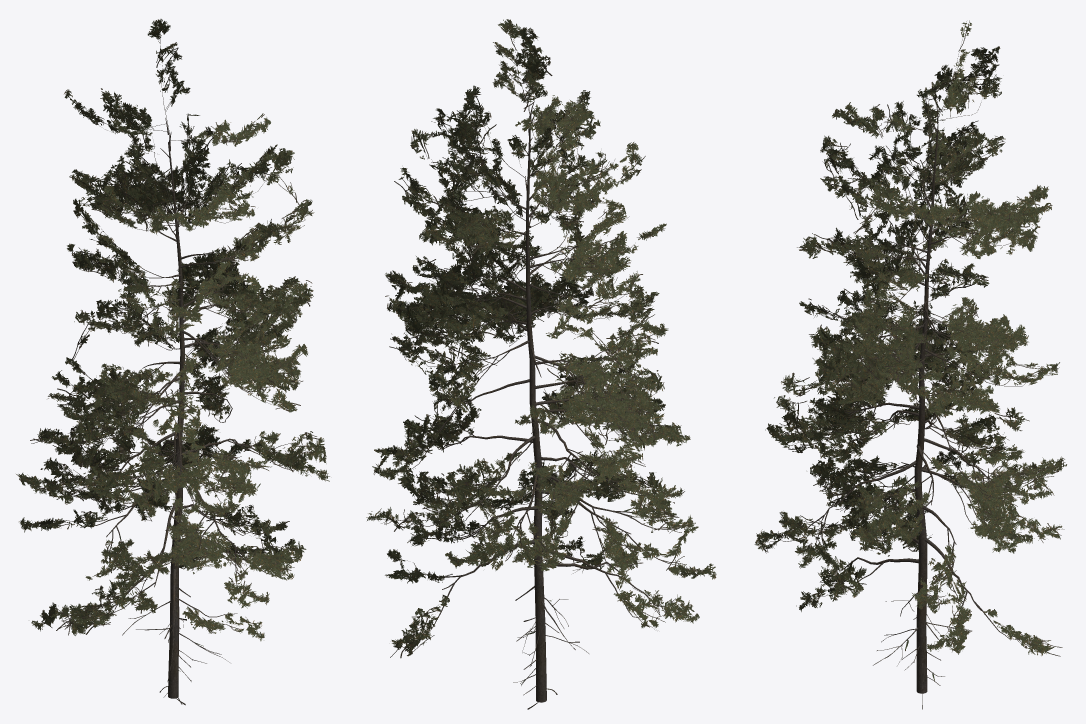
3 renders of one model, left to right at view 1: azimuth 30°, elevation 25°; view 2: azimuth 150°, elevation 25°; view 3: azimuth 270°, elevation 25°, orthographic. The views are drawn at different scales.
Parts seen in each view (by area): view 1: pine_sapling_medium__a_lod0; view 2: pine_sapling_medium__a_lod0; view 3: pine_sapling_medium__a_lod0.
Part boxes in pixels (left/top/right/bottom): pine_sapling_medium__a_lod0: left=16, top=19, right=329, bottom=705; pine_sapling_medium__a_lod0: left=366, top=19, right=716, bottom=709; pine_sapling_medium__a_lod0: left=754, top=20, right=1066, bottom=709.
Bounding box in the file's own units: 5.23 × 11.54 × 4.87.
Materials: 2 (2 with a texture image).
